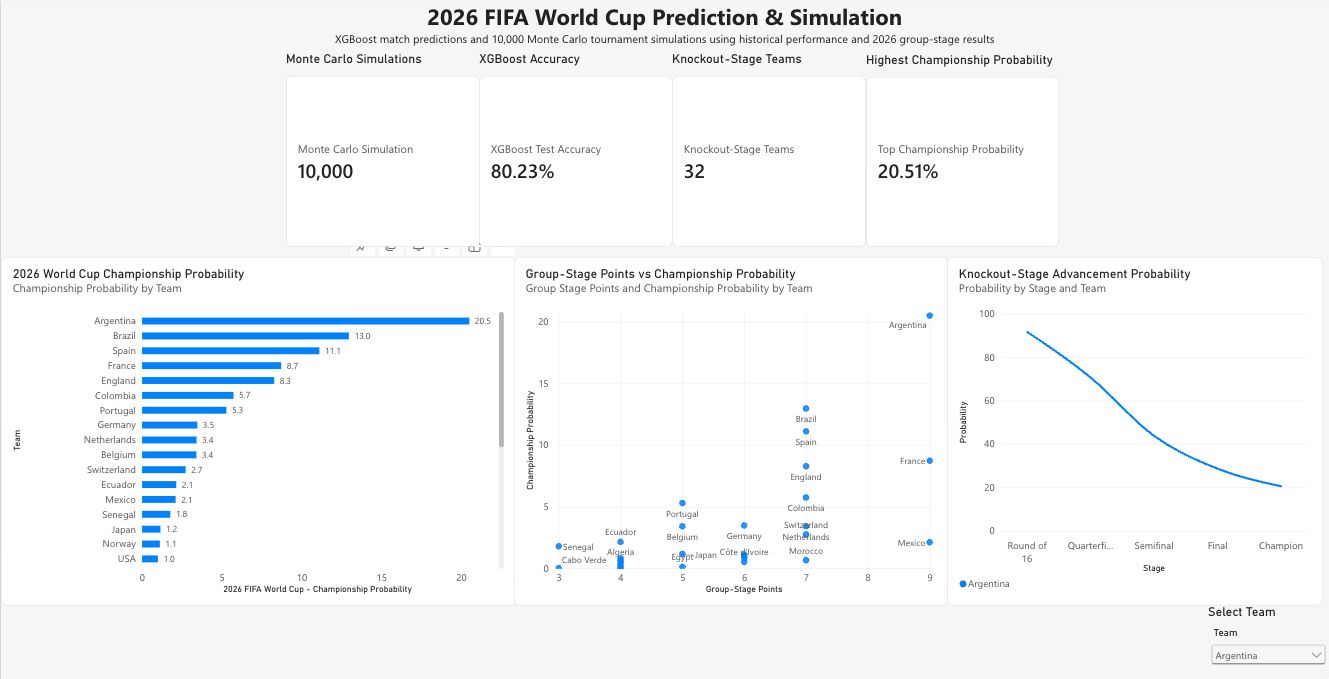

What the dashboard file says about the page in this screenshot:
{"tool":"powerbi","page":{"name":"Page 1","canvas":[1920,1080],"ordinal":0},"visuals":[{"type":"clusteredBarChart","title":"2026 World Cup Championship Probability","fields":{"Category":["World Cup Team Analysis.Team"],"Y":["Sum(World Cup Team Analysis.Champion_Probability)"]},"box":[0,370.7,744.4,503.8],"z":0},{"type":"scatterChart","title":"Group-Stage Points vs Championship Probability","fields":{"Category":["world_cup_2026_team_analysis.Team"],"X":["Sum(world_cup_2026_team_analysis.Group_Points)"],"Y":["Sum(World Cup Team Analysis.Champion_Probability)"]},"box":[741.4,370.7,626.7,503.8],"z":1000},{"type":"lineChart","title":"Knockout-Stage Advancement Probability","fields":{"Category":["World Cup Advancement.Stage"],"Series":["World Cup Advancement.Team"],"Y":["Sum(World Cup Advancement.Probability)"]},"box":[1368.1,370.7,542.7,503.8],"z":2000},{"type":"slicer","title":"Select Team","fields":{"Values":["World Cup Advancement.Team"]},"box":[1744.9,874.5,175.1,126],"z":3000},{"type":"cardVisual","title":"Monte Carlo Simulations","fields":{"Data":["World Cup Team Analysis.Monte Carlo Simulation"]},"box":[411.6,75.7,280,280],"z":4000},{"type":"cardVisual","title":"XGBoost Accuracy","fields":{"Data":["World Cup Team Analysis.XGBoost Test Accuracy"]},"box":[691.2,75.7,280,280],"z":5000},{"type":"cardVisual","title":"Knockout-Stage Teams","fields":{"Data":["World Cup Team Analysis.Knockout-Stage Teams"]},"box":[970.8,75.7,280,280],"z":6000},{"type":"cardVisual","title":"Highest Championship Probability","fields":{"Data":["World Cup Team Analysis.Top Championship Probability"]},"box":[1250.3,75.9,279.6,279.6],"z":7000},{"type":"textbox","box":[400.9,0,1118.2,91.1],"z":8000}]}

Visuals, with their boxes on the page's 1920x1080 design canvas (x1, y1, x2, y2). These are canvas units, not pixel positions in the 1329x679 screenshot, which may show the page scaled, cropped or inside an application window:
"2026 World Cup Championship Probability" clusteredBarChart: (0, 371, 744, 874)
"Group-Stage Points vs Championship Probability" scatterChart: (741, 371, 1368, 874)
"Knockout-Stage Advancement Probability" lineChart: (1368, 371, 1911, 874)
"Select Team" slicer: (1745, 874, 1920, 1000)
"Monte Carlo Simulations" cardVisual: (412, 76, 692, 356)
"XGBoost Accuracy" cardVisual: (691, 76, 971, 356)
"Knockout-Stage Teams" cardVisual: (971, 76, 1251, 356)
"Highest Championship Probability" cardVisual: (1250, 76, 1530, 356)
textbox: (401, 0, 1519, 91)
